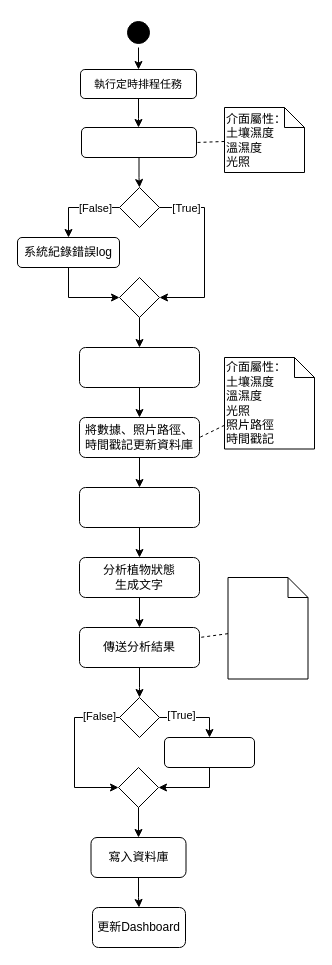
Some shapes in this 332 by 965 pixel diagram are drawn without their labels. The shapes that lost their labels are listed below. From the top down, each one's centre as x and y in pixels, then its label:
the point at 138,142: 讀取感測器數據
the point at 139,367: 執行相機拍照
the point at 139,507: 傳送Prompt提示詞
the point at 267,627: 介面屬性： 狀態 心情小語 建議 原因 健康分數 時間戳記
the point at 209,752: 執行澆水
